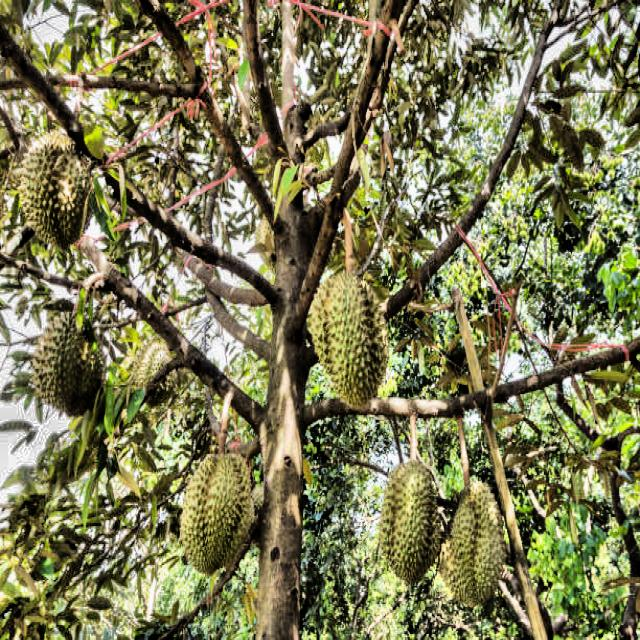arvore: (262, 0, 318, 640)
